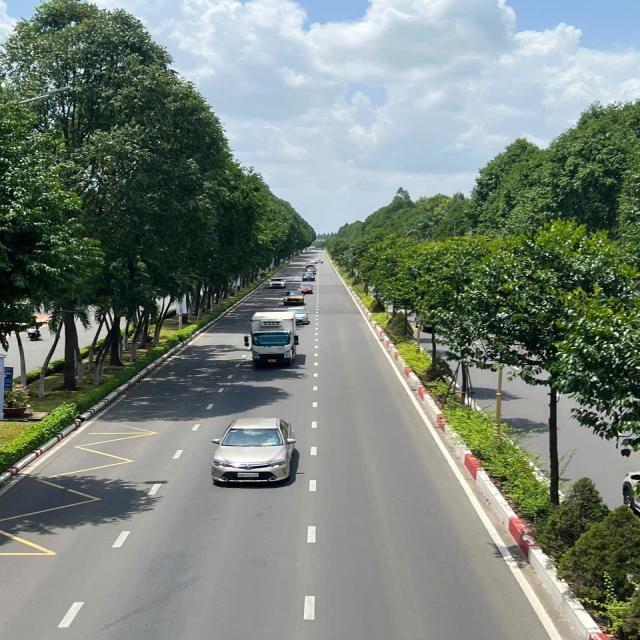ben: (243, 310, 300, 366)
car: (210, 413, 298, 488), (285, 304, 310, 328), (284, 288, 306, 305), (266, 274, 288, 290), (297, 281, 315, 296), (301, 270, 320, 284), (305, 264, 318, 274), (310, 257, 324, 265)
